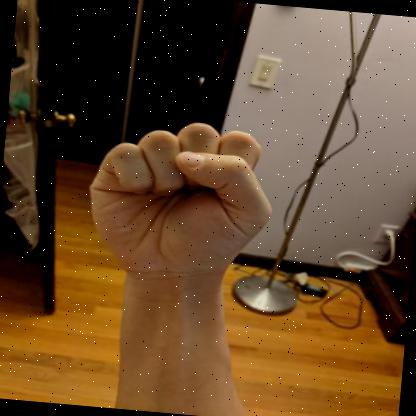S: (90, 123, 272, 282)
